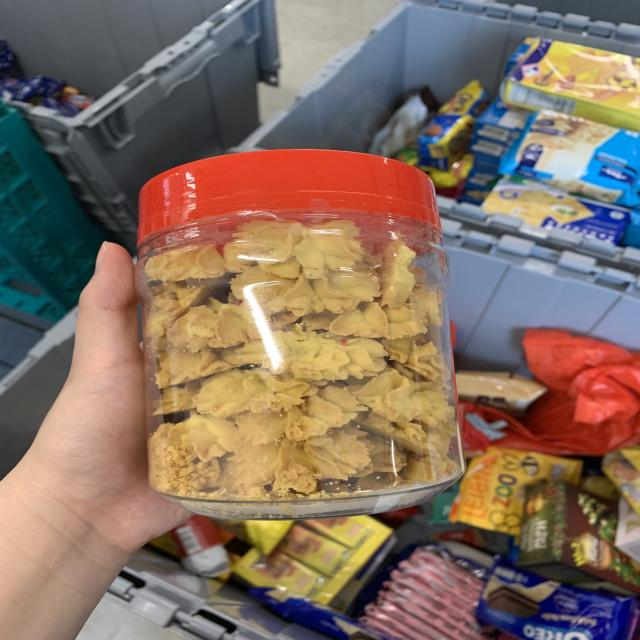object_name: (142, 175, 449, 490)
